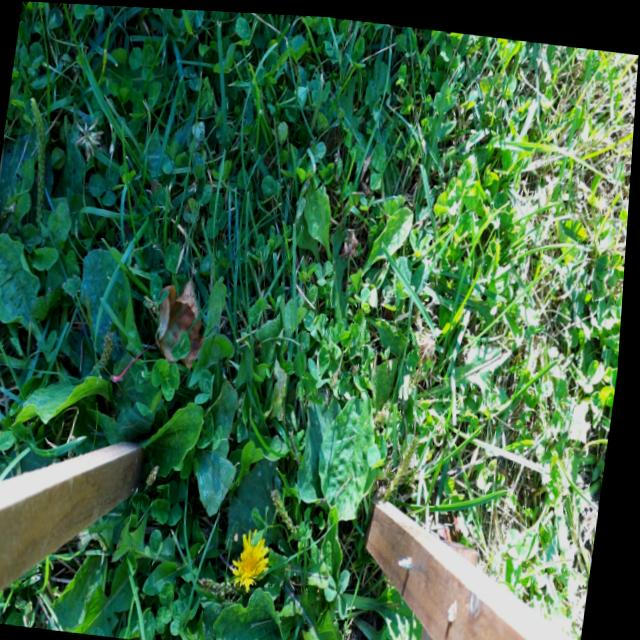base: (216, 532, 238, 565)
